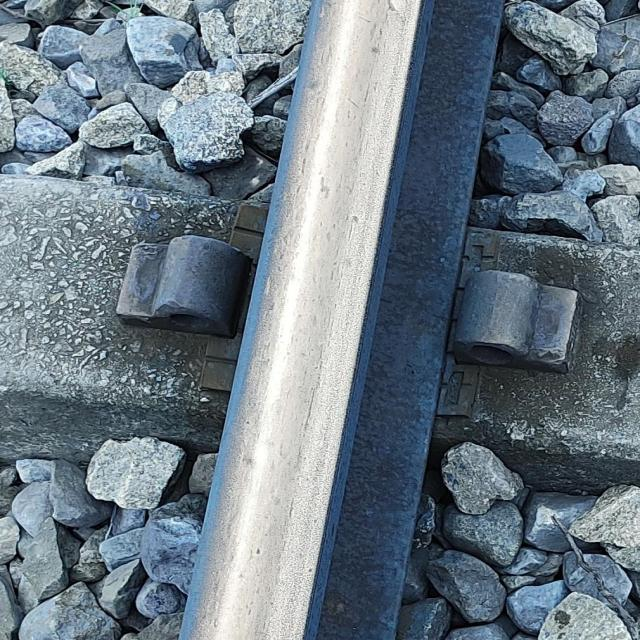Missing Fastener: (455, 241, 588, 407), (92, 213, 242, 357)
